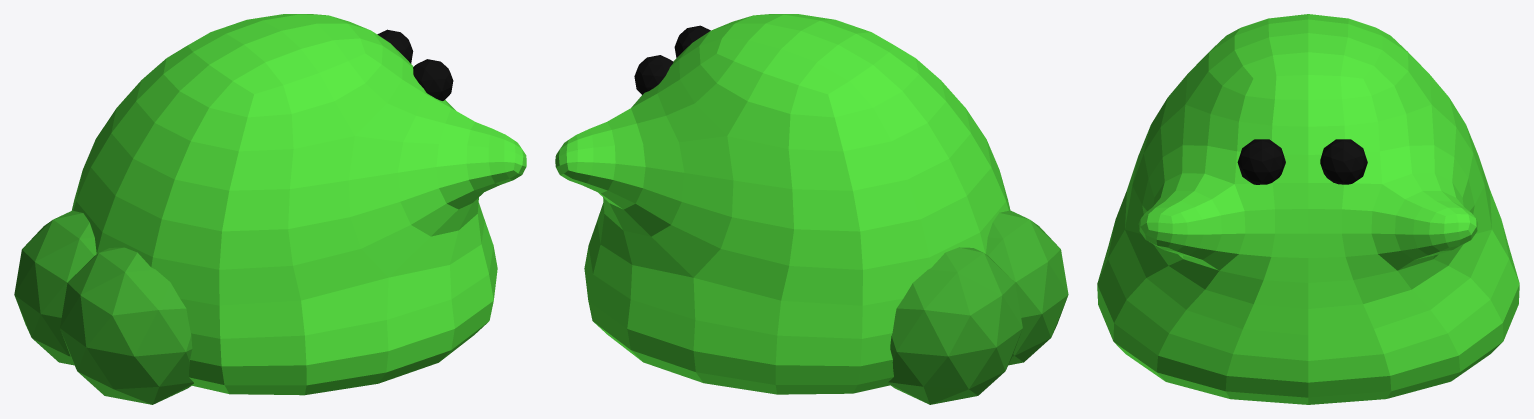
The model's file is Slime_moche.fbx.
The picture shows the model from 3 angles, left to right: view 1: azimuth 30°, elevation 25°; view 2: azimuth 150°, elevation 25°; view 3: azimuth 270°, elevation 25°; orthographic projection.
Parts seen in each view (by area): view 1: Cube, Icosphere.002, Icosphere.003, Icosphere, Icosphere.001; view 2: Cube, Icosphere.003, Icosphere.002, Icosphere.001, Icosphere; view 3: Cube, Icosphere, Icosphere.001.
Part boxes in pixels (box(x1,y1,x2,y2)): Cube: box(72, 14, 526, 395); Icosphere.002: box(60, 247, 193, 404); Icosphere.003: box(14, 210, 96, 365); Icosphere: box(413, 59, 453, 100); Icosphere.001: box(377, 29, 413, 63); Cube: box(555, 14, 1010, 394); Icosphere.003: box(888, 247, 1022, 404); Icosphere.002: box(986, 210, 1068, 365); Icosphere.001: box(634, 55, 673, 94); Icosphere: box(674, 25, 710, 57); Cube: box(1097, 14, 1519, 404); Icosphere: box(1237, 139, 1285, 184); Icosphere.001: box(1320, 139, 1367, 184).
Bounding box in the file's own units: 273 × 193 × 234.
